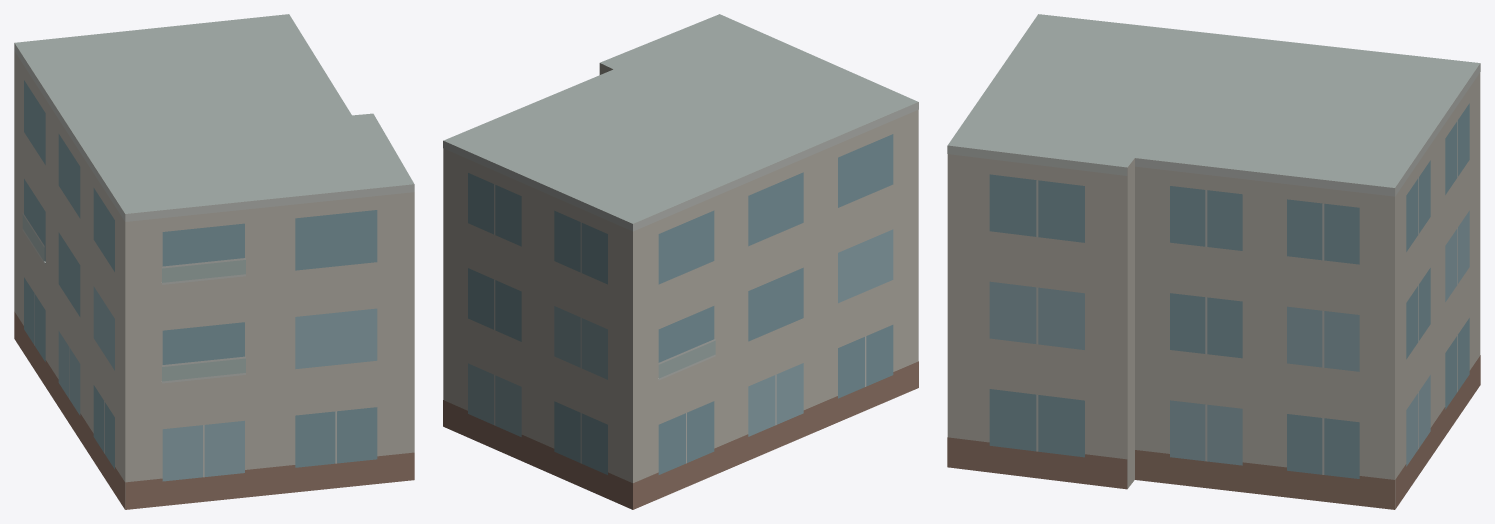
Rendered from survey-upis-32479445.glb.
3 renders of one model, left to right at view 1: azimuth 30°, elevation 25°; view 2: azimuth 150°, elevation 25°; view 3: azimuth 270°, elevation 25°, orthographic. The views are drawn at different scales.
Visible parts, largest first — view 1: survey-upis-32479445.tmp; view 2: survey-upis-32479445.tmp; view 3: survey-upis-32479445.tmp.
Boxes of the visible parts, <box> form: survey-upis-32479445.tmp: <box>14,14,414,509</box>; survey-upis-32479445.tmp: <box>443,14,918,509</box>; survey-upis-32479445.tmp: <box>947,14,1480,509</box>.
Size of the model in its own units: 10.62 by 9.15 by 13.75.
